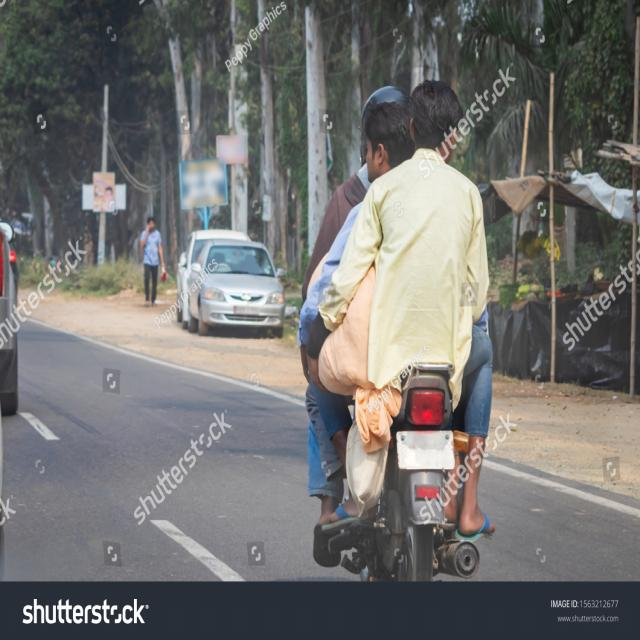Triple Riding: (321, 92, 495, 476)
